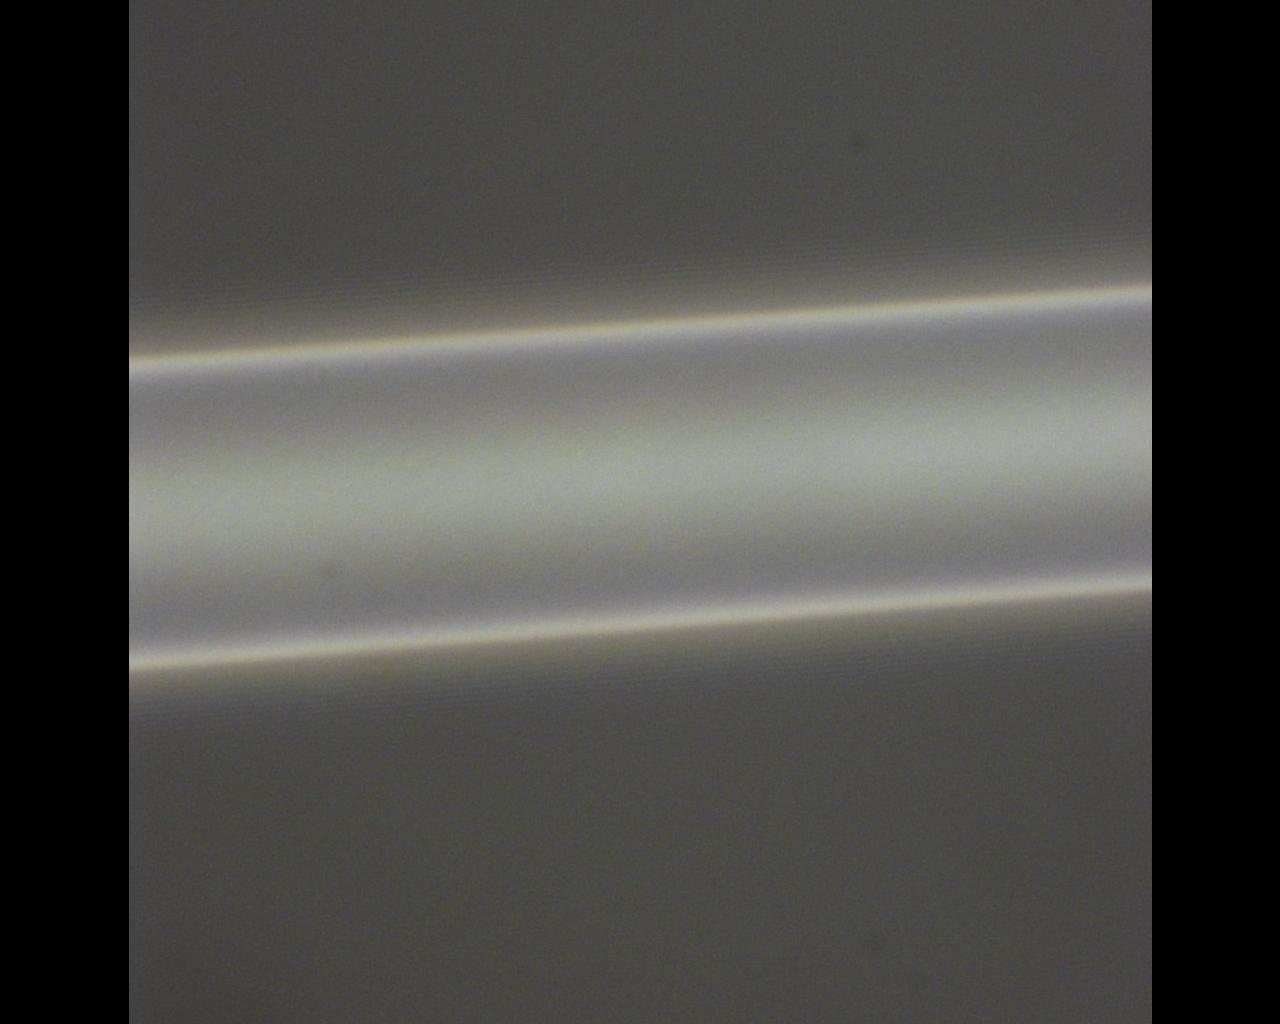fiber: (128, 283, 1152, 668)
